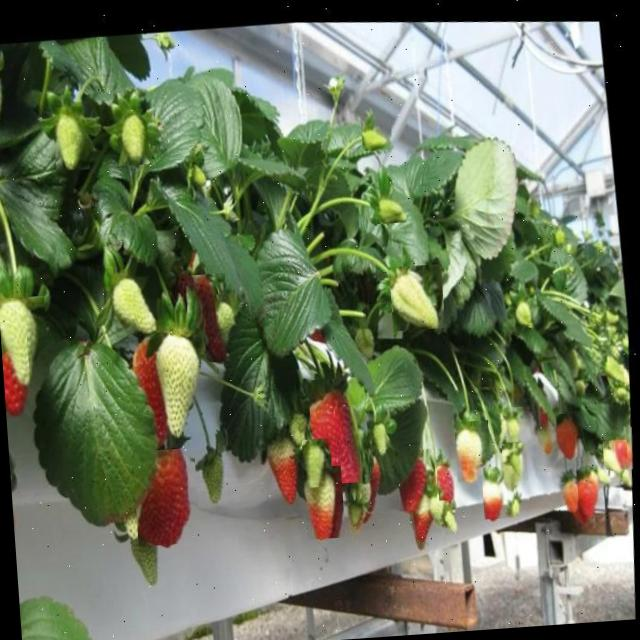ripe: (308, 376, 370, 485), (132, 447, 200, 546), (184, 272, 230, 364), (396, 448, 438, 511), (576, 464, 606, 514), (556, 412, 584, 458), (436, 458, 461, 500), (612, 427, 636, 460)
unripe: (148, 327, 212, 442), (128, 332, 178, 451), (0, 295, 50, 392), (108, 267, 164, 348), (388, 264, 444, 330), (302, 465, 345, 539), (0, 321, 32, 418), (52, 105, 90, 171), (454, 420, 492, 482), (114, 108, 150, 166), (480, 465, 516, 519), (302, 438, 332, 488), (214, 294, 240, 340), (373, 188, 406, 224), (360, 114, 392, 151), (502, 442, 528, 482), (604, 438, 636, 470), (512, 290, 538, 324), (602, 438, 628, 469), (504, 406, 526, 442), (509, 484, 530, 509)
